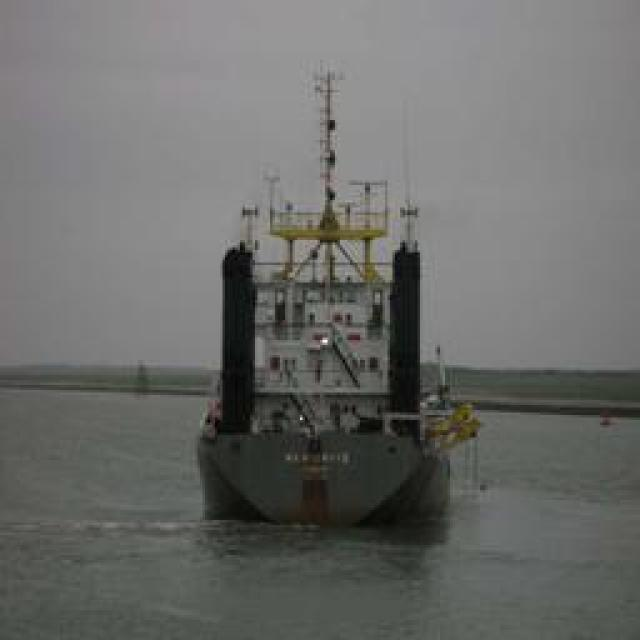CIV_Ship: (198, 60, 452, 528)
